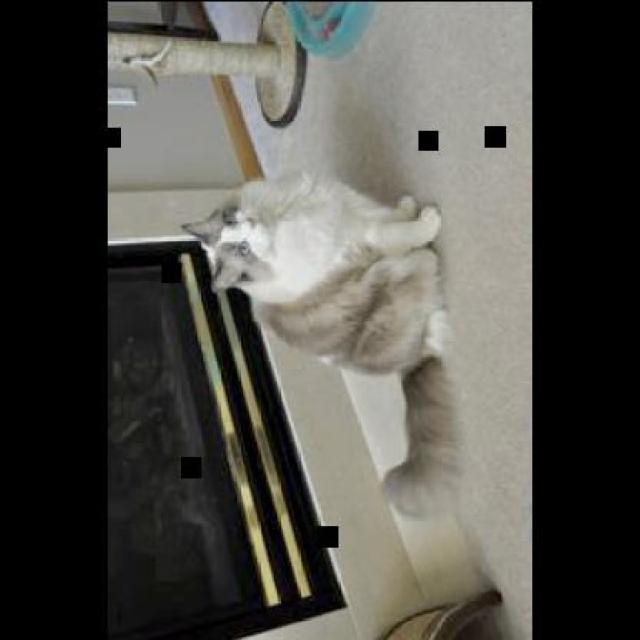unauthorized: (179, 167, 463, 518)
